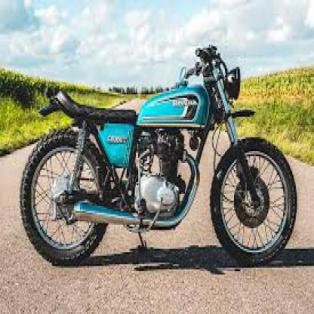Motocicleta: (17, 39, 300, 266)
